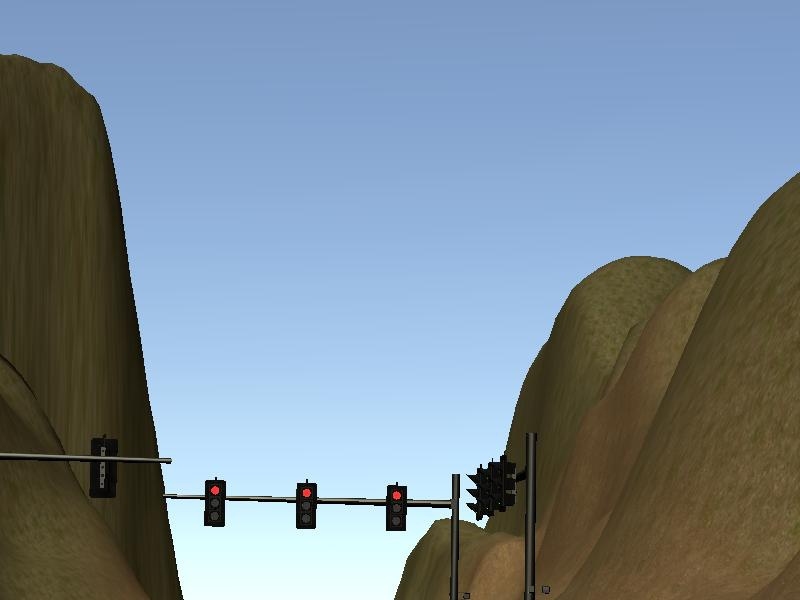Red: (202, 476, 227, 530), (293, 480, 319, 530), (384, 482, 408, 534)
